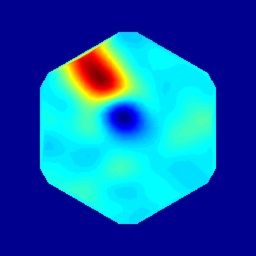ship: (100, 87, 144, 135)
wave: (64, 42, 130, 111)
